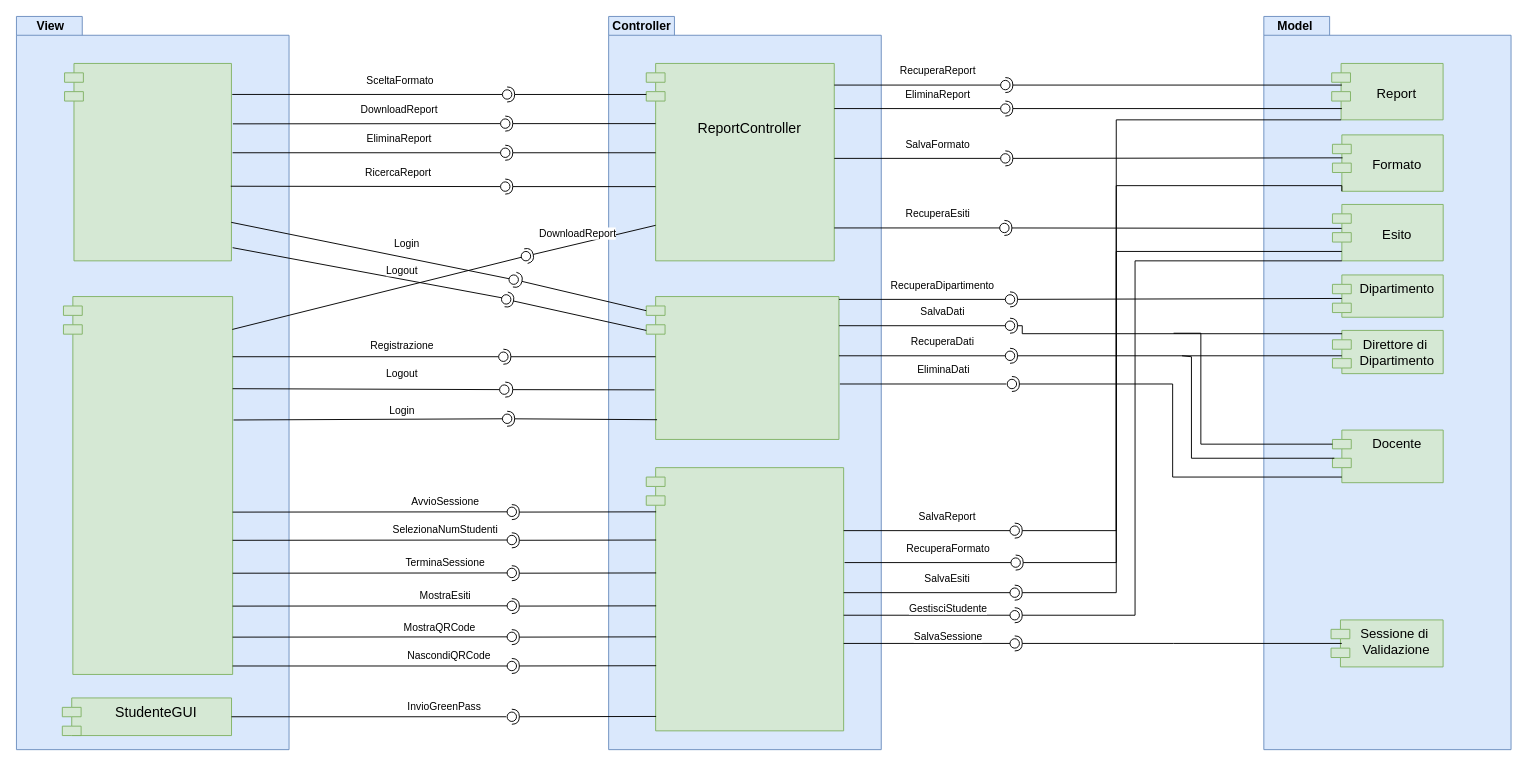
This 1528x766 diagram has some shape labels left out. The centre of each missing label's shape, as x and y in pixels:
"AccessController" belongs at pixel 742 367.
"DirettoreDi Dipartimento GUI" belongs at pixel 147 162.
"DocenteGUI" belongs at pixel 148 485.
"SessionController" belongs at pixel 744 599.
